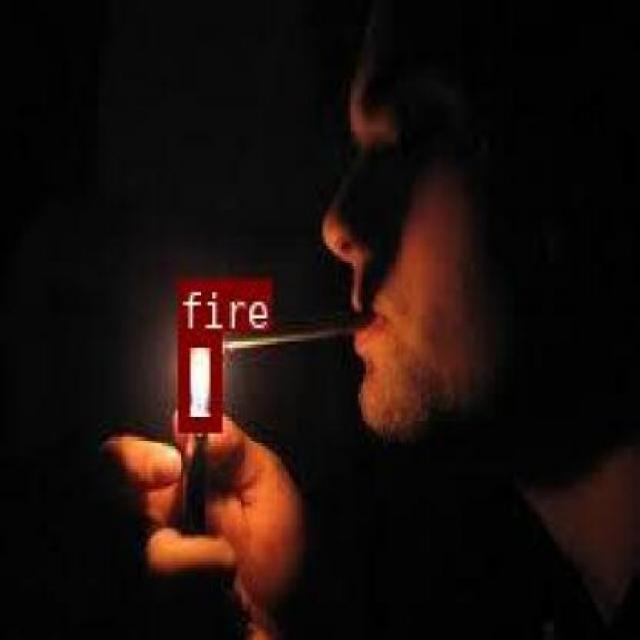fire: (176, 330, 219, 430)
